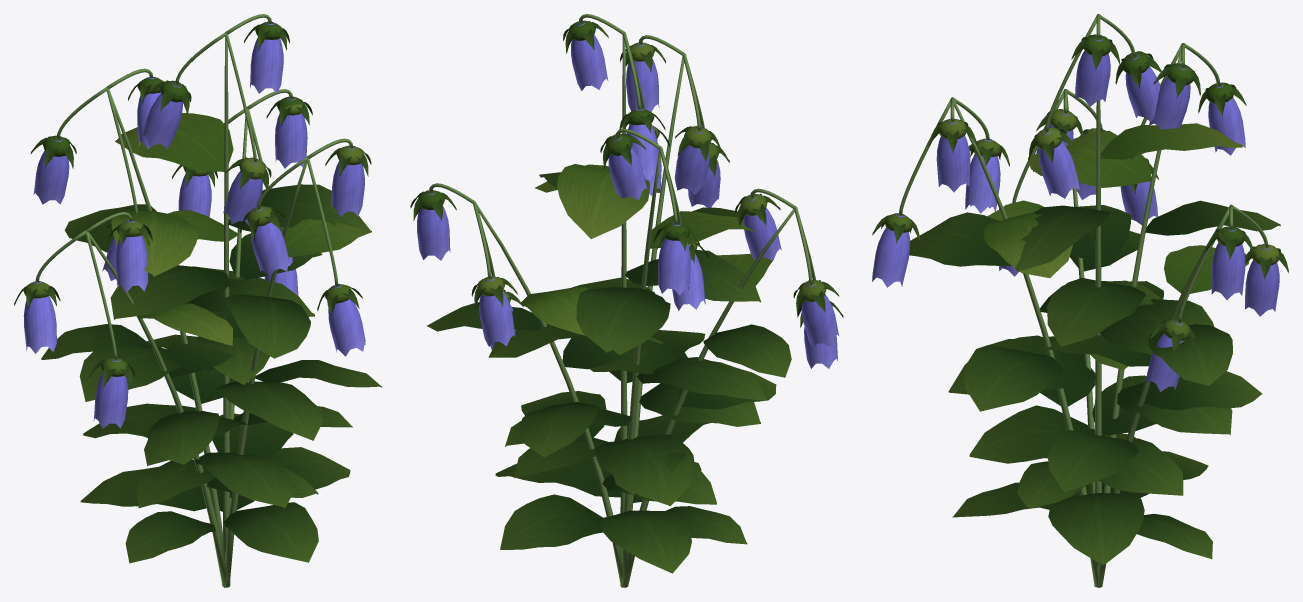
Rendered from bellflower-09-lod.glb.
3 renders of one model, left to right at view 1: azimuth 30°, elevation 25°; view 2: azimuth 150°, elevation 25°; view 3: azimuth 270°, elevation 25°, orthographic. The views are drawn at different scales.
Visible parts, largest first — view 1: bellflower_stage_09_leaf_veins.017, bellflower_stage_09_bellflower_petal.017, bellflower_stage_09_young_leaf.017, bellflower_stage_09_stem_fibres.017; view 2: bellflower_stage_09_leaf_veins.017, bellflower_stage_09_bellflower_petal.017, bellflower_stage_09_young_leaf.017, bellflower_stage_09_stem_fibres.017; view 3: bellflower_stage_09_leaf_veins.017, bellflower_stage_09_bellflower_petal.017, bellflower_stage_09_young_leaf.017, bellflower_stage_09_stem_fibres.017.
Part boxes in pixels (bbox=[...]): bellflower_stage_09_leaf_veins.017: bbox=[14, 24, 381, 563]; bellflower_stage_09_bellflower_petal.017: bbox=[23, 21, 365, 428]; bellflower_stage_09_young_leaf.017: bbox=[23, 22, 368, 376]; bellflower_stage_09_stem_fibres.017: bbox=[35, 14, 353, 587]; bellflower_stage_09_leaf_veins.017: bbox=[410, 21, 843, 573]; bellflower_stage_09_bellflower_petal.017: bbox=[417, 21, 838, 368]; bellflower_stage_09_young_leaf.017: bbox=[418, 20, 826, 335]; bellflower_stage_09_stem_fibres.017: bbox=[429, 14, 815, 587]; bellflower_stage_09_leaf_veins.017: bbox=[872, 34, 1288, 565]; bellflower_stage_09_bellflower_petal.017: bbox=[872, 35, 1279, 391]; bellflower_stage_09_young_leaf.017: bbox=[885, 34, 1279, 340]; bellflower_stage_09_stem_fibres.017: bbox=[899, 14, 1268, 587].
Size of the model in its own units: 0.4066 by 0.6137 by 0.3985.
4 materials, 3 textured.
